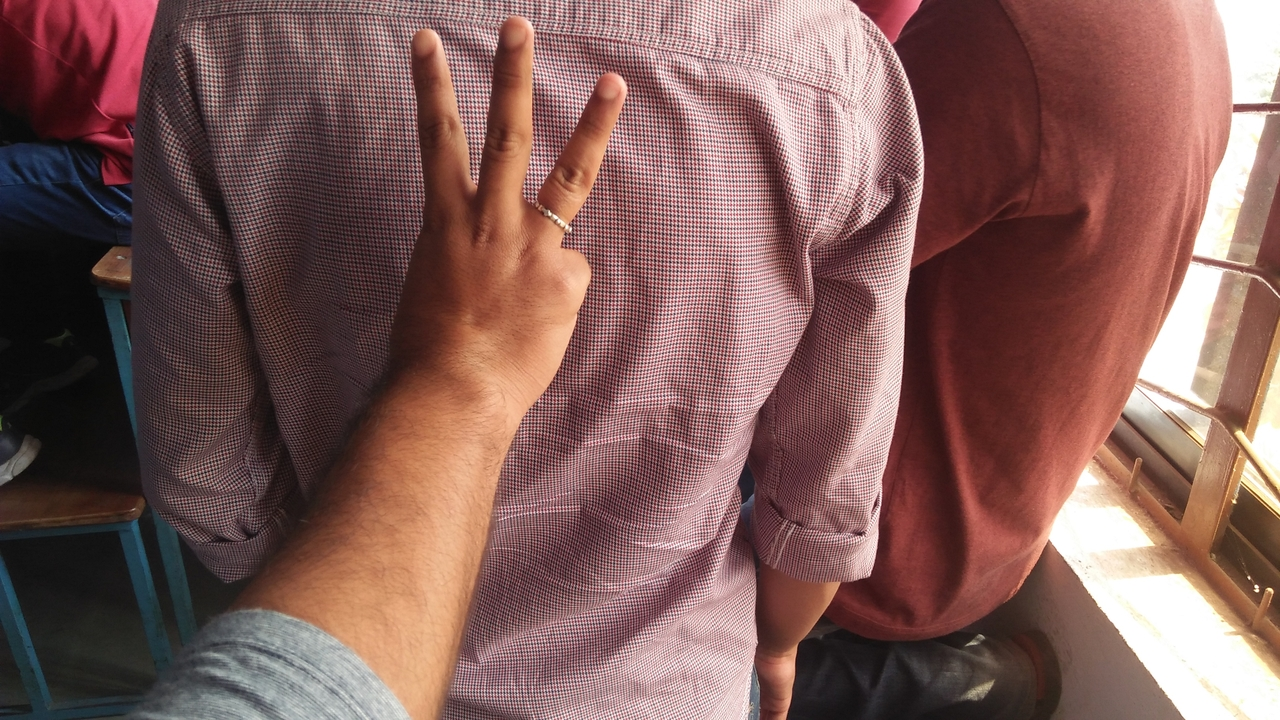fingertip: (584, 62, 632, 108), (400, 20, 448, 62), (492, 8, 536, 52)
